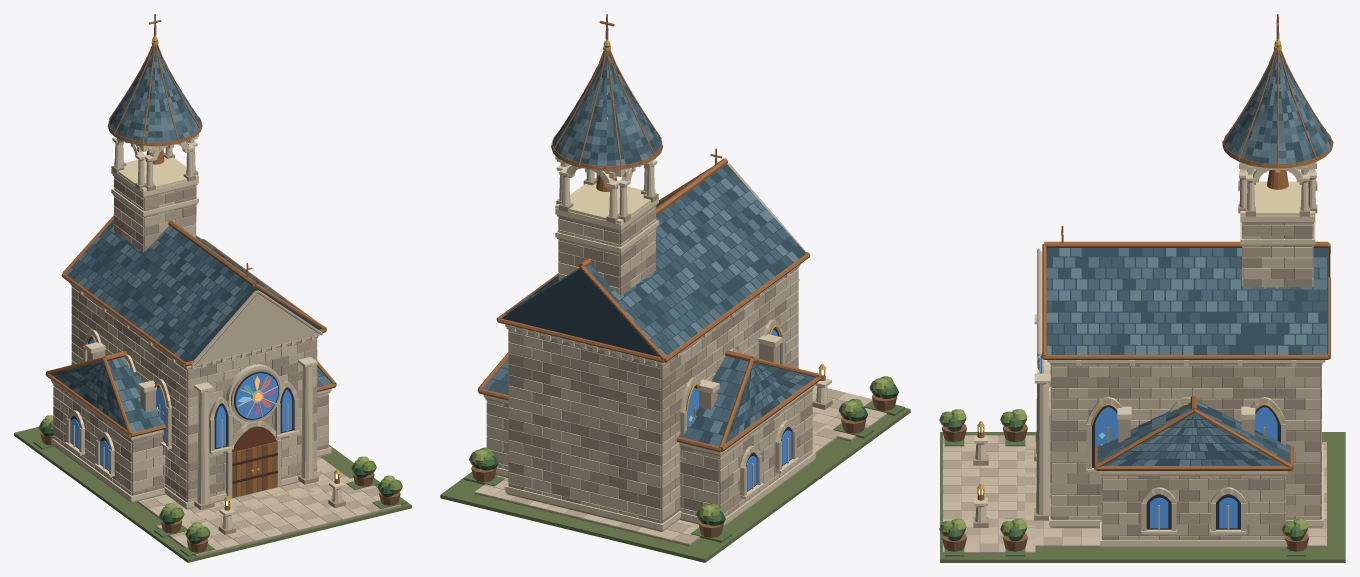
File: chapel-nivel-4.glb
3 renders of one model, left to right at view 1: azimuth 30°, elevation 25°; view 2: azimuth 150°, elevation 25°; view 3: azimuth 270°, elevation 25°, orthographic. The views are drawn at different scales.
Visible parts, largest first — view 1: Capela 04 #d3c3a9, Capela 04 #c1af99, Capela 04 #e6d7ba, Capela 04 #dac9af, Capela 04 #344d58, Capela 04 #ae9d8b, Capela 04 #a76e42, Capela 04 #486574, Capela 04 #3f5a65, Capela 04 #55717e, Capela 04 #6c7d4e, Capela 04 #637f89 (+14 smaller); view 2: Capela 04 #d3c3a9, Capela 04 #344d58, Capela 04 #c1af99, Capela 04 #ae9d8b, Capela 04 #dac9af, Capela 04 #a76e42, Capela 04 #6c7d4e, Capela 04 #3f5a65, Capela 04 #e6d7ba, Capela 04 #486574, Capela 04 #55717e, Capela 04 #637f89 (+9 smaller); view 3: Capela 04 #344d58, Capela 04 #d3c3a9, Capela 04 #c1af99, Capela 04 #dac9af, Capela 04 #55717e, Capela 04 #e6d7ba, Capela 04 #ae9d8b, Capela 04 #a76e42, Capela 04 #6c7d4e, Capela 04 #486574, Capela 04 #637f89, Capela 04 #3f5a65 (+10 smaller).
Boxes of the visible parts, x1,y1,x2,y2 form: Capela 04 #d3c3a9: [53, 190, 400, 551]; Capela 04 #c1af99: [53, 176, 386, 555]; Capela 04 #e6d7ba: [51, 137, 345, 529]; Capela 04 #dac9af: [53, 182, 380, 547]; Capela 04 #344d58: [50, 46, 324, 431]; Capela 04 #ae9d8b: [53, 178, 401, 556]; Capela 04 #a76e42: [45, 14, 339, 510]; Capela 04 #486574: [52, 49, 322, 430]; Capela 04 #3f5a65: [61, 49, 324, 427]; Capela 04 #55717e: [78, 45, 332, 431]; Capela 04 #6c7d4e: [14, 427, 411, 562]; Capela 04 #637f89: [63, 50, 284, 432]; Capela 04 #d3c3a9: [484, 216, 886, 540]; Capela 04 #344d58: [488, 51, 809, 443]; Capela 04 #c1af99: [486, 163, 869, 544]; Capela 04 #ae9d8b: [474, 216, 887, 546]; Capela 04 #dac9af: [475, 206, 878, 537]; Capela 04 #a76e42: [477, 14, 825, 452]; Capela 04 #6c7d4e: [440, 407, 910, 562]; Capela 04 #3f5a65: [488, 56, 809, 431]; Capela 04 #e6d7ba: [483, 160, 831, 530]; Capela 04 #486574: [508, 51, 815, 443]; Capela 04 #55717e: [483, 55, 803, 446]; Capela 04 #637f89: [519, 51, 804, 436]; Capela 04 #344d58: [1046, 61, 1331, 465]; Capela 04 #d3c3a9: [943, 223, 1326, 552]; Capela 04 #c1af99: [943, 223, 1326, 552]; Capela 04 #dac9af: [943, 236, 1326, 552]; Capela 04 #55717e: [1046, 50, 1328, 465]; Capela 04 #e6d7ba: [974, 167, 1323, 546]; Capela 04 #ae9d8b: [943, 223, 1326, 554]; Capela 04 #a76e42: [977, 14, 1333, 500]; Capela 04 #6c7d4e: [940, 432, 1345, 562]; Capela 04 #486574: [1046, 54, 1329, 465]; Capela 04 #637f89: [1046, 50, 1331, 465]; Capela 04 #3f5a65: [1046, 56, 1332, 465].
Size of the model in its own units: 8.75 by 15.5 by 11.78.
